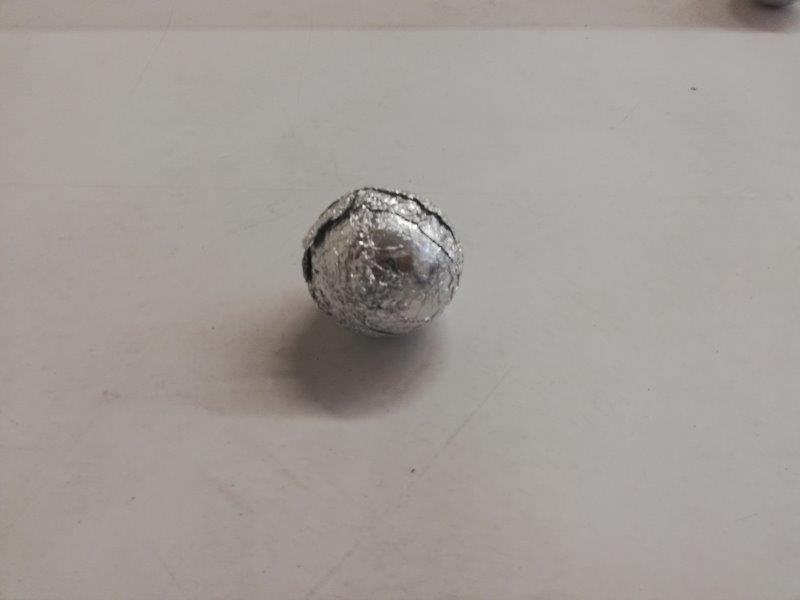bianca: (301, 184, 464, 341)
